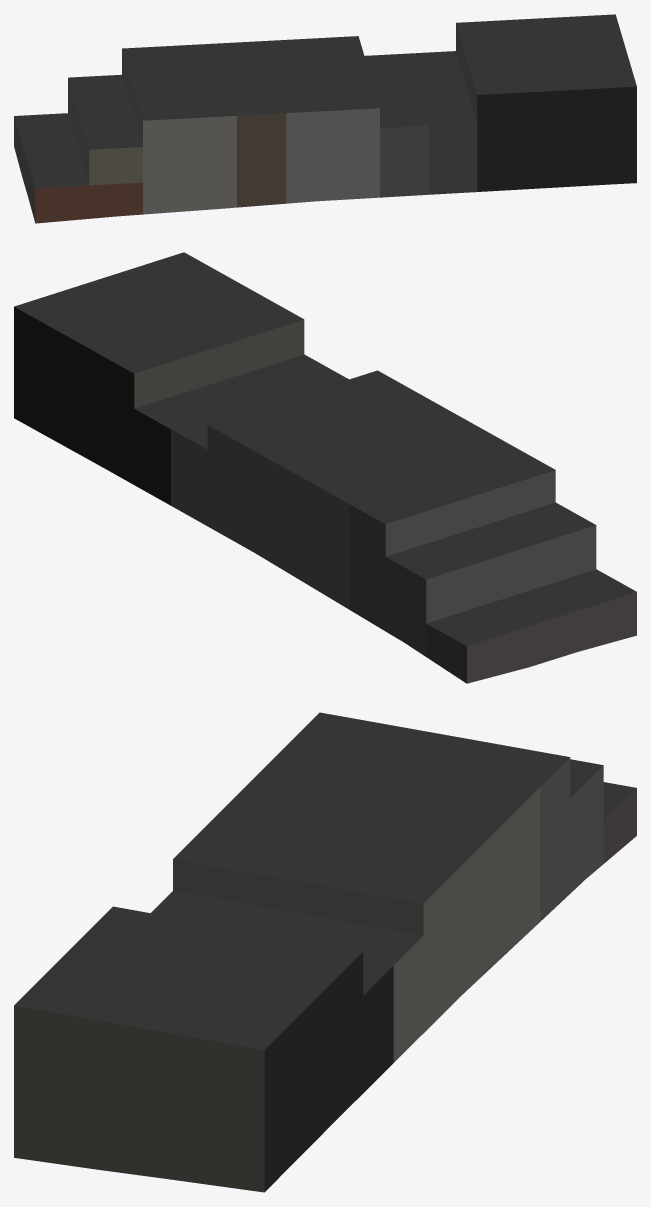
Rendered from patten-pkwy-north.glb.
The picture shows the model from 3 angles, top to bottom: view 1: azimuth 30°, elevation 25°; view 2: azimuth 150°, elevation 25°; view 3: azimuth 270°, elevation 25°; orthographic projection. The views are drawn at different scales.
Parts seen in each view (by area): view 1: LOD0; view 2: LOD0; view 3: LOD0.
Boxes of the visible parts, <box> form: LOD0: <box>14,14,636,223</box>; LOD0: <box>14,252,636,683</box>; LOD0: <box>14,712,636,1192</box>.
Size of what is drawn, in the model's own units: 75.03 by 13.93 by 47.33.
1 material, 1 textured.
